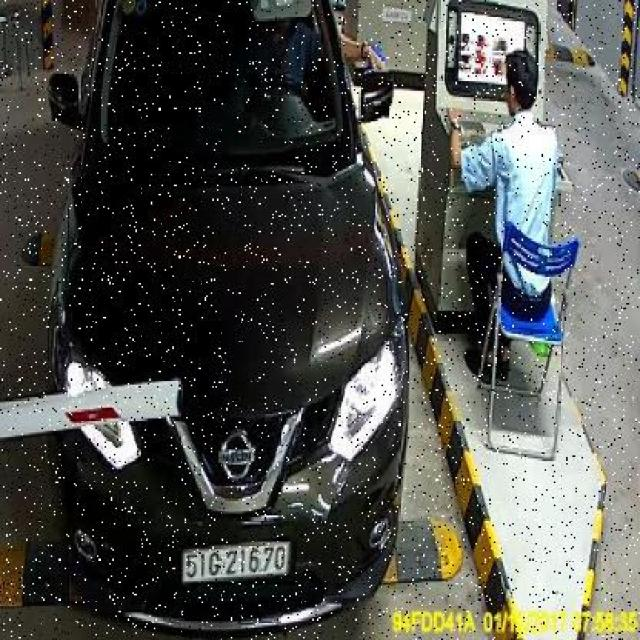number_plate: (179, 541, 295, 585)
